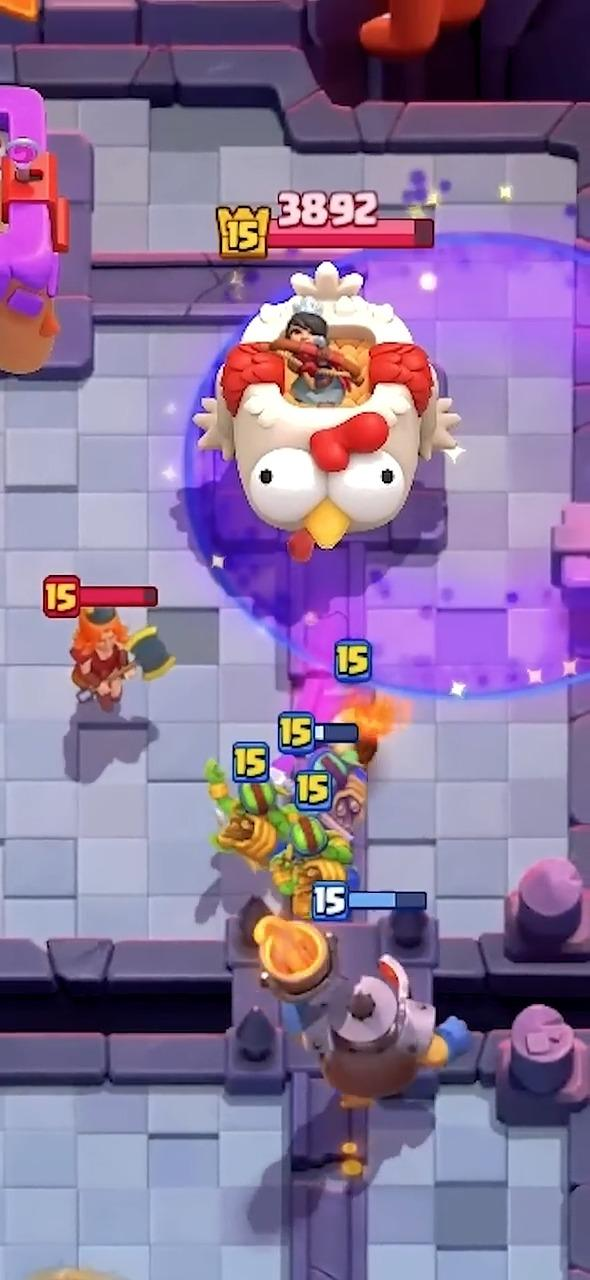fire spirit: (335, 691, 407, 767)
furnace: (254, 916, 468, 1106)
graveyard: (375, 241, 589, 695)
spear goblin: (209, 761, 287, 869), (269, 825, 355, 918), (312, 748, 366, 838)
valkyrie: (71, 607, 151, 711)
